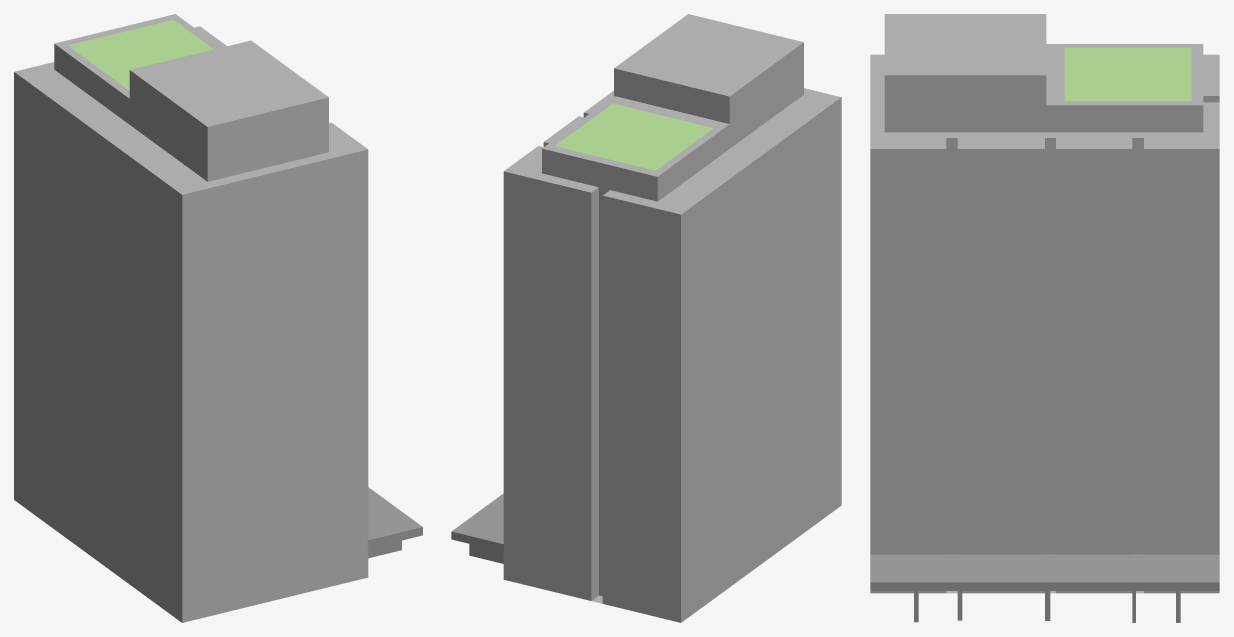
Rendered from office_model.glb.
3 renders of one model, left to right at view 1: azimuth 30°, elevation 25°; view 2: azimuth 150°, elevation 25°; view 3: azimuth 270°, elevation 25°, orthographic. The views are drawn at different scales.
Visible parts, largest first — view 1: Cube.003, Cube.001, Cube.002, Cube.004; view 2: Cube.003, Cube.001, Cube.002, Cube.004; view 3: Cube.003, Cube.001, Cube.002, Cube.004.
Part boxes in pixels (x1=…): Cube.003: x1=14, y1=267, x2=368, y2=622; Cube.001: x1=14, y1=14, x2=368, y2=272; Cube.002: x1=14, y1=150, x2=368, y2=390; Cube.004: x1=367, y1=487, x2=422, y2=558; Cube.003: x1=503, y1=284, x2=841, y2=622; Cube.001: x1=503, y1=14, x2=841, y2=289; Cube.002: x1=503, y1=172, x2=841, y2=400; Cube.004: x1=451, y1=493, x2=503, y2=563; Cube.003: x1=870, y1=341, x2=1219, y2=593; Cube.001: x1=870, y1=14, x2=1219, y2=230; Cube.002: x1=870, y1=219, x2=1219, y2=351; Cube.004: x1=870, y1=554, x2=1219, y2=622.
Bounding box in the file's own units: 8.73 × 16.79 × 10.57.
